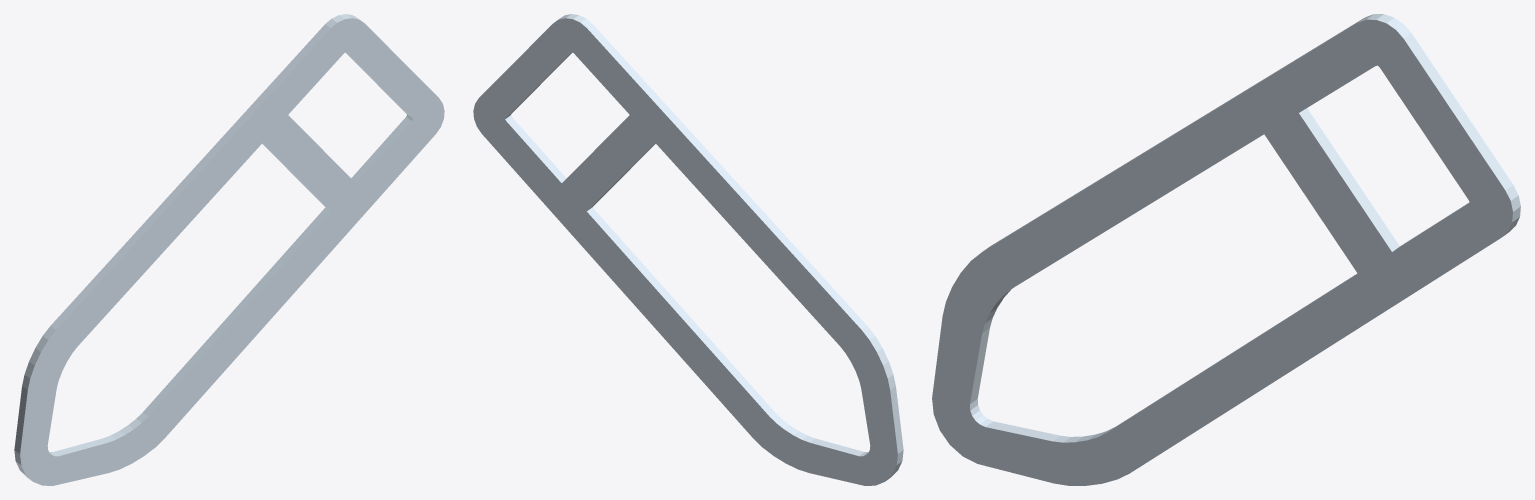
Rendered from Edit_3D_Icon_01.fbx.
3 views of the same model, side by side, from view 1: azimuth 30°, elevation 25°; view 2: azimuth 150°, elevation 25°; view 3: azimuth 330°, elevation 25° (orthographic). The views are drawn at different scales.
Visible parts, largest first — view 1: Edit_3D_Icon_01; view 2: Edit_3D_Icon_01; view 3: Edit_3D_Icon_01.
Boxes of the visible parts, x1,y1,x2,y2 form: Edit_3D_Icon_01: (14,14,444,485); Edit_3D_Icon_01: (473,14,903,485); Edit_3D_Icon_01: (932,14,1520,485).
Size of the model in its own units: 85.25 by 76.02 by 2.
